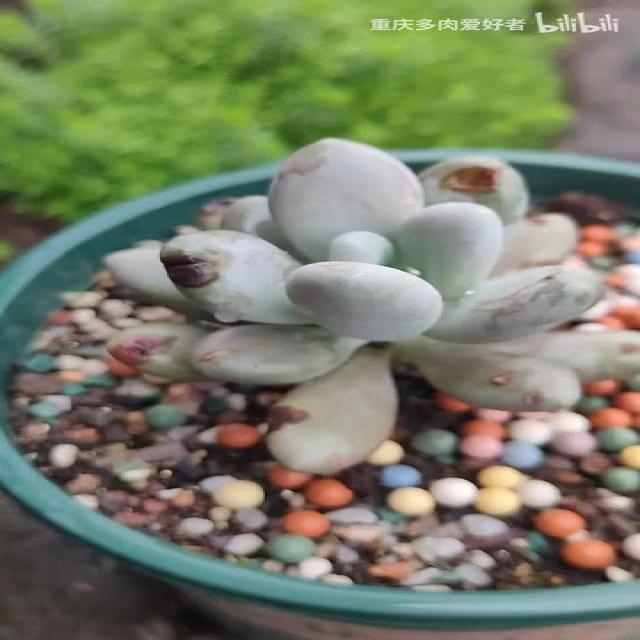-: (165, 248, 215, 292), (436, 166, 503, 196), (265, 398, 315, 438), (482, 368, 521, 390), (517, 388, 546, 410)
